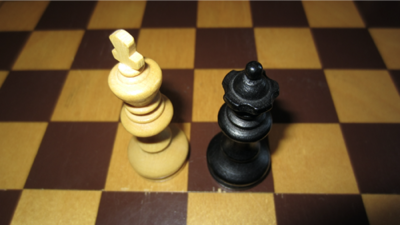black-queen: (206, 61, 282, 191)
white-king: (108, 28, 190, 183)
